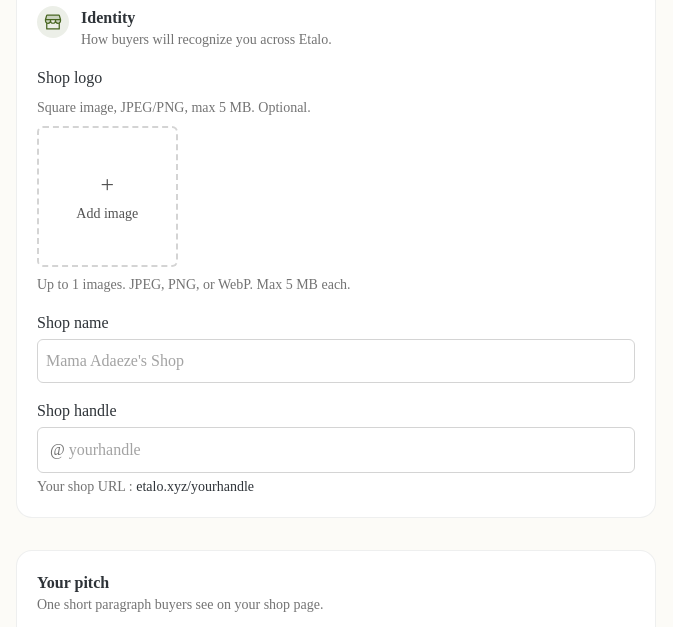
Test: CreateShopForm › auto-suggests the handle from the shop name
(page scrolled)
Type "Mama Adaeze's Boutique" into the field with test id "create-shop-name".
click(336, 361); type("Mama Adaeze's Boutique")  # box [37, 339, 635, 383]
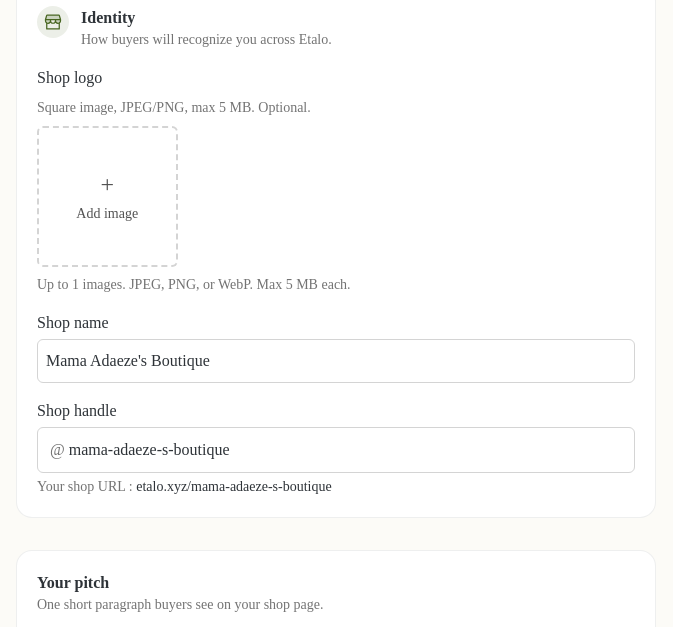
Now the field with test id "create-shop-handle" holds "mama-adaeze-s-boutique", box [69, 428, 634, 472]
